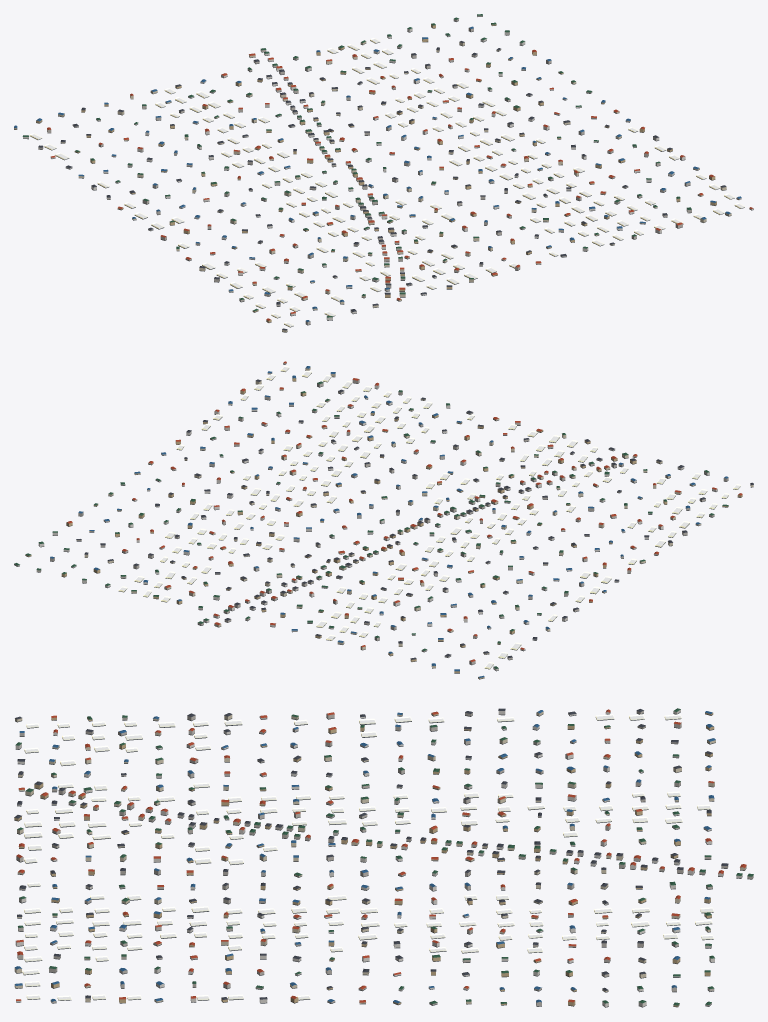
The model's file is buildings_T_E00_S06.glb.
3 renders of one model, top to bottom at view 1: azimuth 30°, elevation 25°; view 2: azimuth 150°, elevation 25°; view 3: azimuth 270°, elevation 25°, orthographic. The views are drawn at different scales.
Parts seen in each view (by area): view 1: T_E00_S06_slope_seating_foundations, T_E00_S06_roofs_agri_greenhouse_arch, T_E00_S06_walls_wall_pastel_sand_gray, T_E00_S06_walls_wall_french_ochre_villa, T_E00_S06_walls_wall_modern_warm_white, T_E00_S06_roofs_roof_slate_French_villa_hip, T_E00_S06_walls_wall_dalat_cream_stucco, T_E00_S06_roofs_roof_pine_green_hip, T_E00_S06_roofs_roof_terracotta_gable, T_E00_S06_roofs_roof_highland_blue_gable; view 2: T_E00_S06_slope_seating_foundations, T_E00_S06_roofs_agri_greenhouse_arch, T_E00_S06_walls_wall_pastel_sand_gray, T_E00_S06_walls_wall_french_ochre_villa, T_E00_S06_walls_wall_modern_warm_white, T_E00_S06_roofs_roof_slate_French_villa_hip, T_E00_S06_walls_wall_dalat_cream_stucco, T_E00_S06_roofs_roof_pine_green_hip, T_E00_S06_roofs_roof_terracotta_gable, T_E00_S06_roofs_roof_highland_blue_gable; view 3: T_E00_S06_slope_seating_foundations, T_E00_S06_roofs_agri_greenhouse_arch, T_E00_S06_walls_wall_pastel_sand_gray, T_E00_S06_walls_wall_french_ochre_villa, T_E00_S06_roofs_roof_slate_French_villa_hip, T_E00_S06_walls_wall_modern_warm_white, T_E00_S06_walls_wall_dalat_cream_stucco, T_E00_S06_roofs_roof_pine_green_hip, T_E00_S06_roofs_roof_terracotta_gable, T_E00_S06_roofs_roof_highland_blue_gable.
Boxes of the visible parts, <box> form: T_E00_S06_slope_seating_foundations: <box>14,16,753,332</box>; T_E00_S06_roofs_agri_greenhouse_arch: <box>29,38,744,326</box>; T_E00_S06_walls_wall_pastel_sand_gray: <box>38,15,741,324</box>; T_E00_S06_walls_wall_french_ochre_villa: <box>14,24,716,322</box>; T_E00_S06_walls_wall_modern_warm_white: <box>23,28,753,320</box>; T_E00_S06_roofs_roof_slate_French_villa_hip: <box>38,41,726,330</box>; T_E00_S06_walls_wall_dalat_cream_stucco: <box>58,41,731,332</box>; T_E00_S06_roofs_roof_pine_green_hip: <box>22,14,691,317</box>; T_E00_S06_roofs_roof_terracotta_gable: <box>47,49,753,320</box>; T_E00_S06_roofs_roof_highland_blue_gable: <box>14,26,741,322</box>; T_E00_S06_slope_seating_foundations: <box>14,363,753,679</box>; T_E00_S06_roofs_agri_greenhouse_arch: <box>118,366,740,668</box>; T_E00_S06_walls_wall_pastel_sand_gray: <box>14,372,728,664</box>; T_E00_S06_walls_wall_french_ochre_villa: <box>25,378,742,678</box>; T_E00_S06_walls_wall_modern_warm_white: <box>38,362,717,670</box>; T_E00_S06_roofs_roof_slate_French_villa_hip: <box>76,379,753,659</box>; T_E00_S06_walls_wall_dalat_cream_stucco: <box>76,367,753,667</box>; T_E00_S06_roofs_roof_pine_green_hip: <box>14,381,728,668</box>; T_E00_S06_roofs_roof_terracotta_gable: <box>67,361,742,661</box>; T_E00_S06_roofs_roof_highland_blue_gable: <box>50,366,728,677</box>; T_E00_S06_slope_seating_foundations: <box>14,712,753,1007</box>; T_E00_S06_roofs_agri_greenhouse_arch: <box>22,714,713,1000</box>; T_E00_S06_walls_wall_pastel_sand_gray: <box>16,711,753,1006</box>; T_E00_S06_walls_wall_french_ochre_villa: <box>14,712,714,1006</box>; T_E00_S06_roofs_roof_slate_French_villa_hip: <box>14,708,728,999</box>; T_E00_S06_walls_wall_modern_warm_white: <box>15,709,742,1006</box>; T_E00_S06_walls_wall_dalat_cream_stucco: <box>14,711,746,1003</box>; T_E00_S06_roofs_roof_pine_green_hip: <box>15,708,753,1005</box>; T_E00_S06_roofs_roof_terracotta_gable: <box>16,709,746,1002</box>; T_E00_S06_roofs_roof_highland_blue_gable: <box>15,710,715,1003</box>.
Bounding box in the file's own units: 1750 × 44.39 × 1846.
